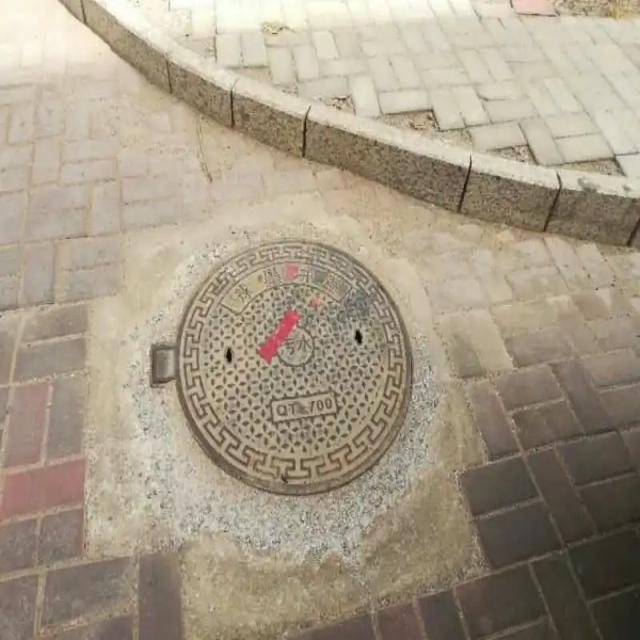manhole: (152, 240, 416, 498)
